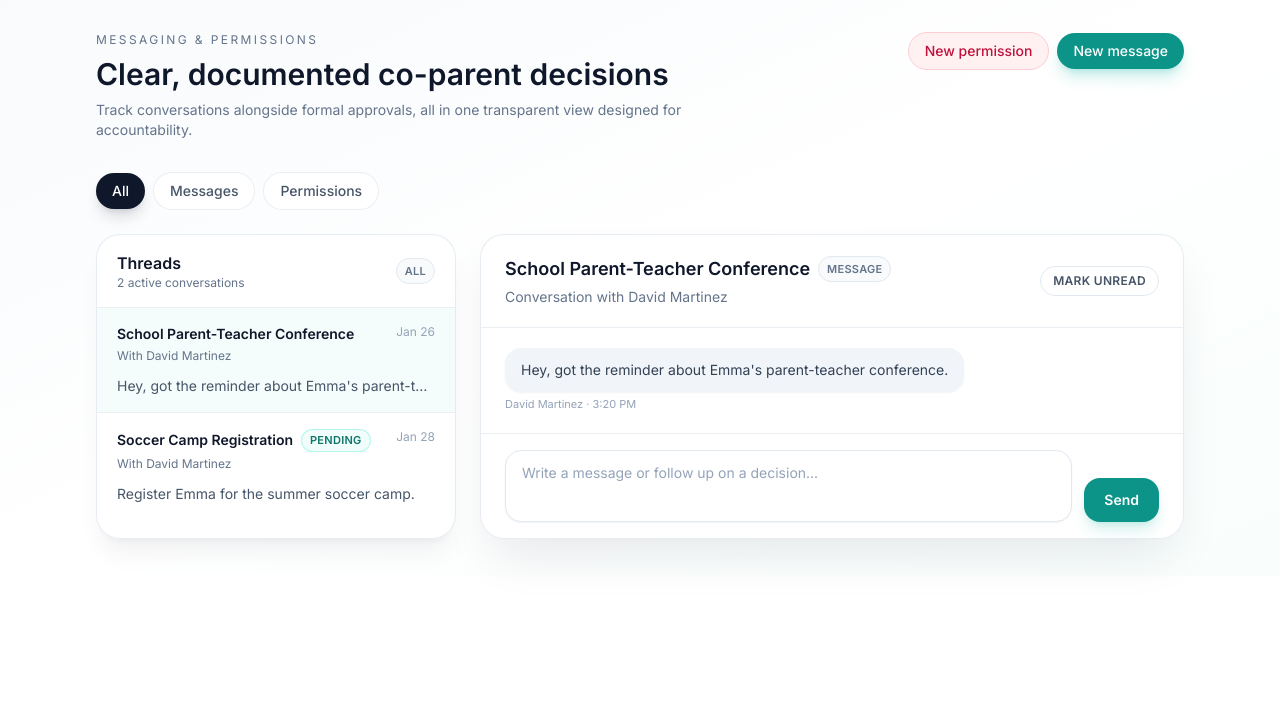
MessagingAndPermissions › sends a message, clears the draft, and renders the new message
Type "Following up on the conference details." into the text box with placeholder "Write a message or follow up on a decision...". click: (789, 482)
box: [522,462,1055,502]
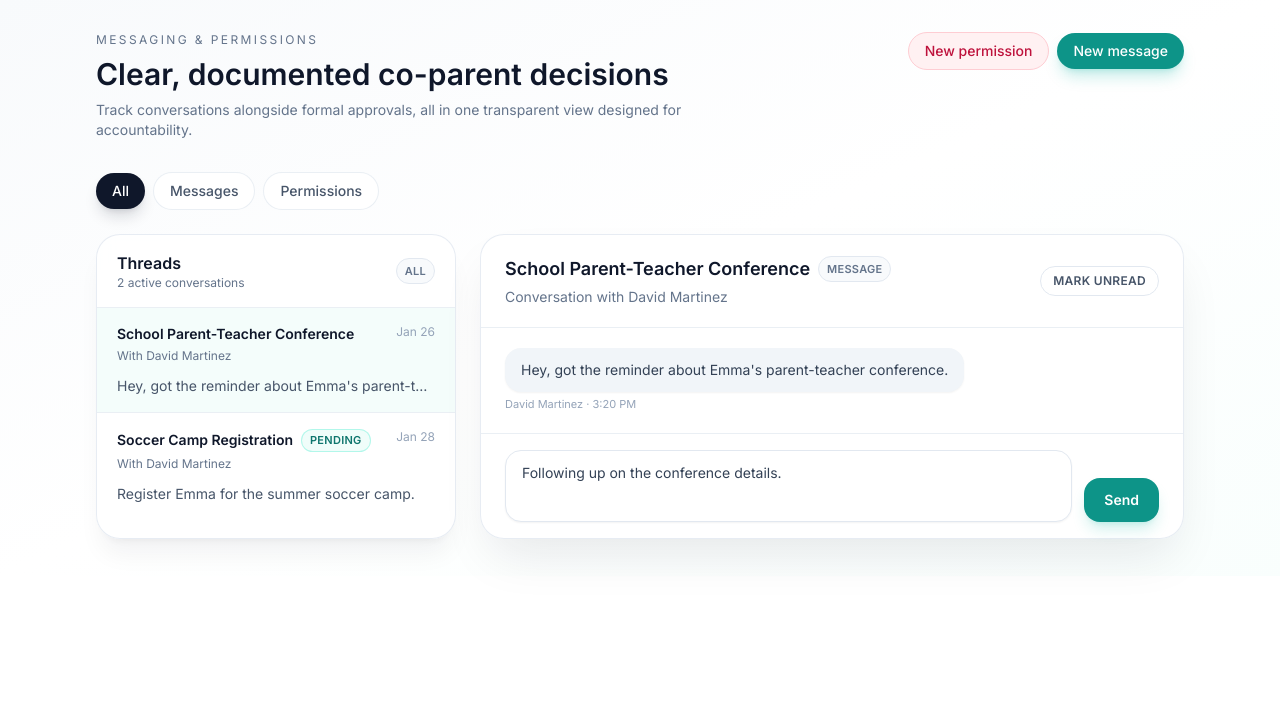
Click the button "Send". click: (1122, 500)
box: [1084,478,1159,522]
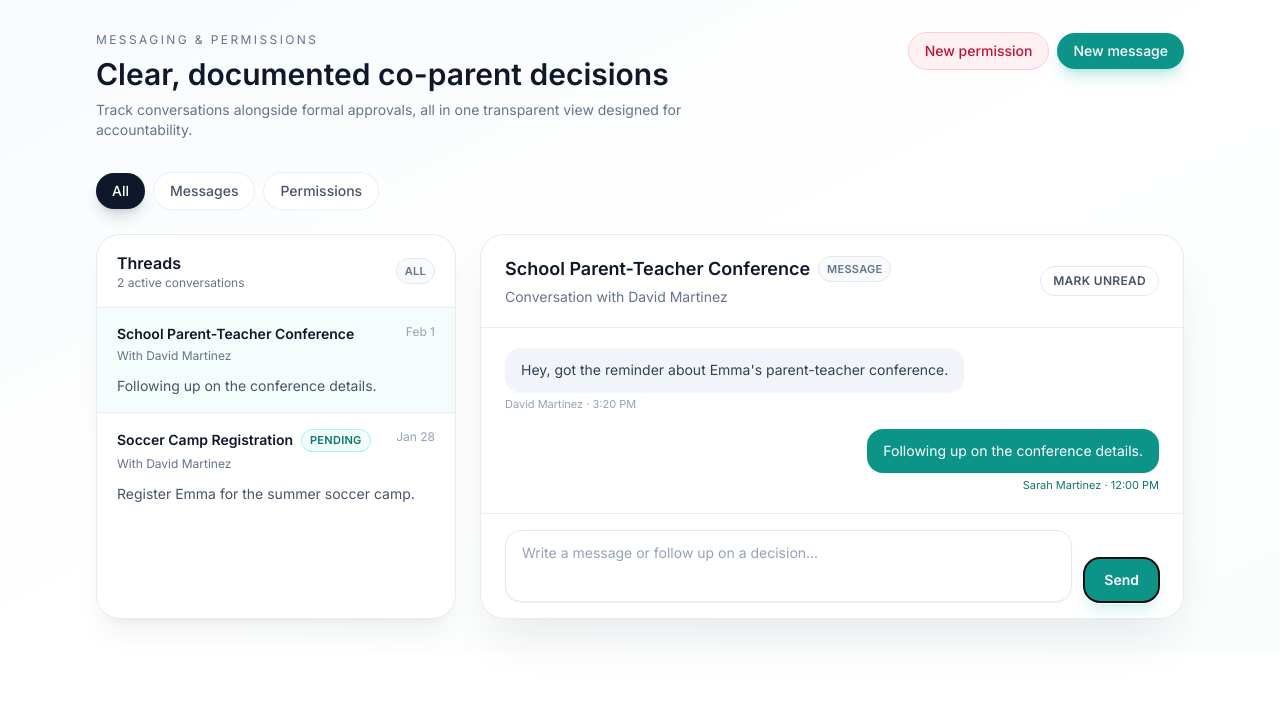
Check: the text box with placeholder "Write a message or follow up on a decision..." is empty, box [522,543,1055,583]
Check: the text "Following up on the conference details." below "active conversations" is shown, box [117,377,377,394]
